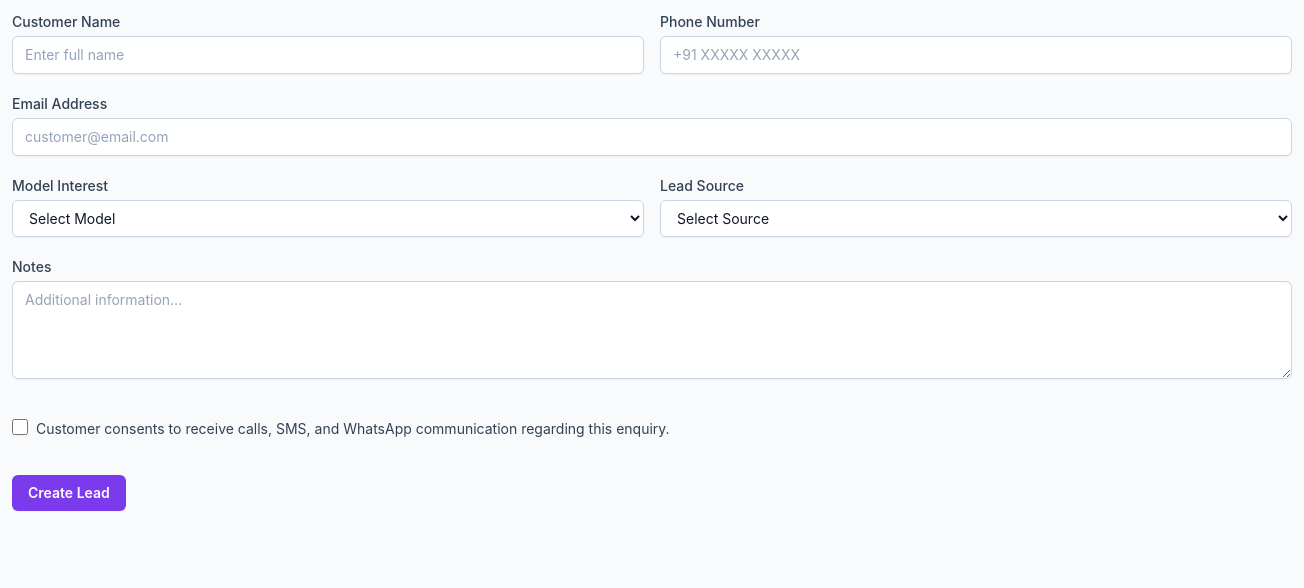
NewLeadForm (simplified) › config-driven mandatory fields (issue #27) › does not show a required error for a field configured optional, and submits without it
This screenshot has width=1304, height=588.
Type "Asha Rao" into the field labelled "Customer Name" at x=328, y=55, box [12,36,644,74]
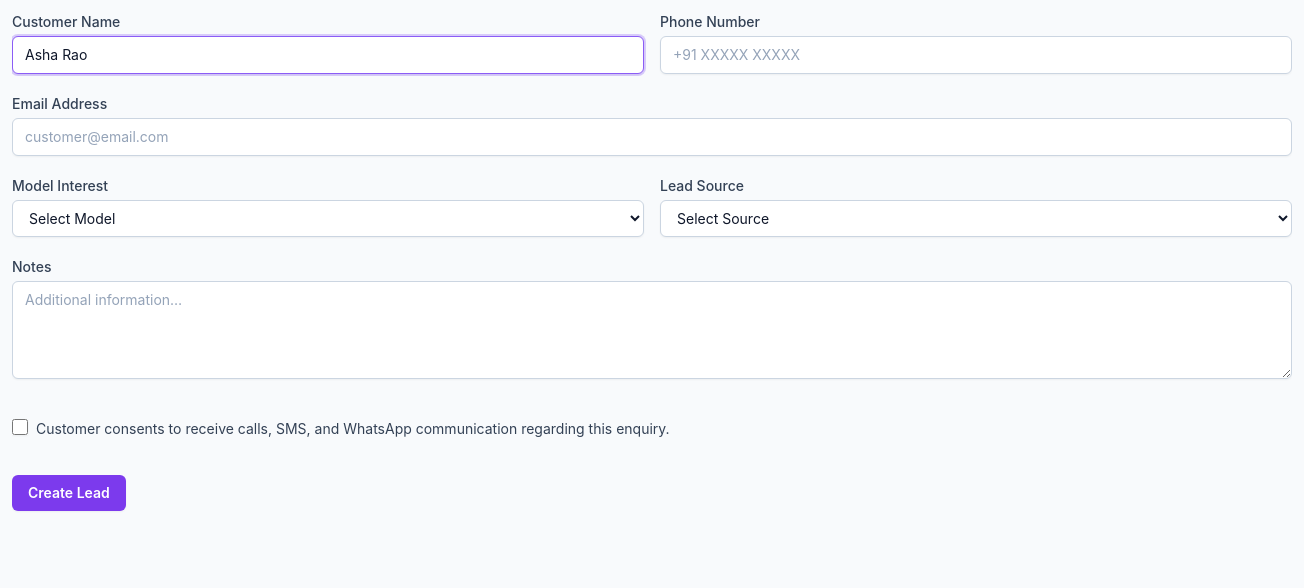
Type "9876543210" into the field labelled "Phone Number" at x=976, y=55, box [660,36,1292,74]
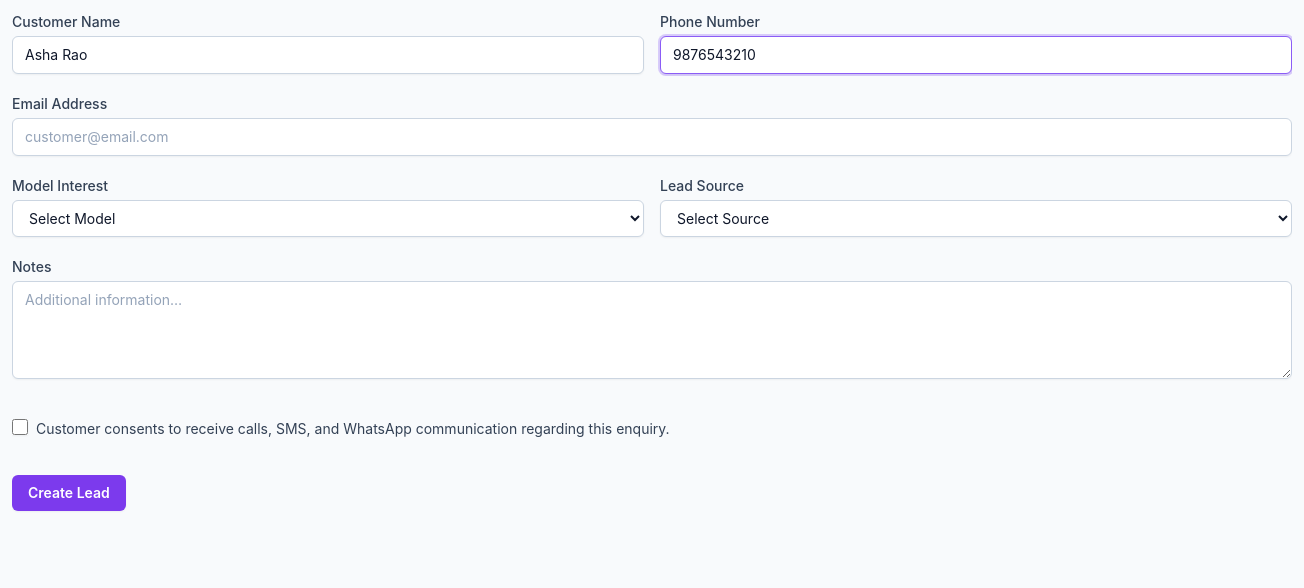
Select "Compact Hatchback LX" in the dropdown labelled "Model Interest" at x=328, y=218, box [12,200,644,237]
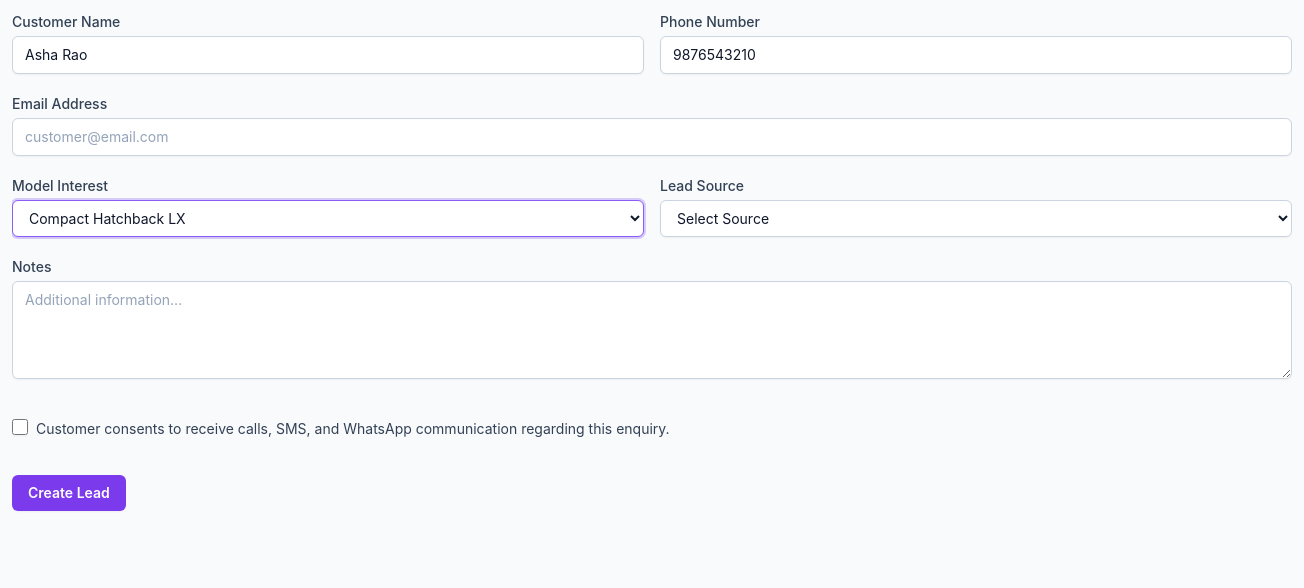
Click the checkbox labelled "Customer consents" at x=20, y=427, box [12,419,28,435]
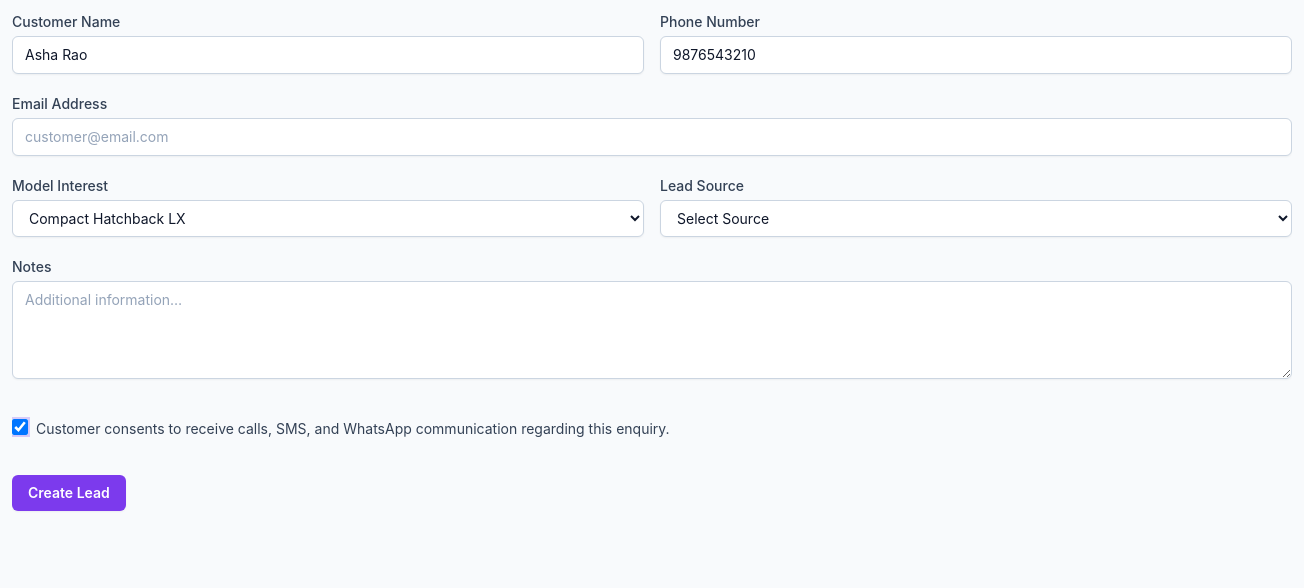
Click the button "Create Lead" at x=69, y=493, box [12,475,126,511]
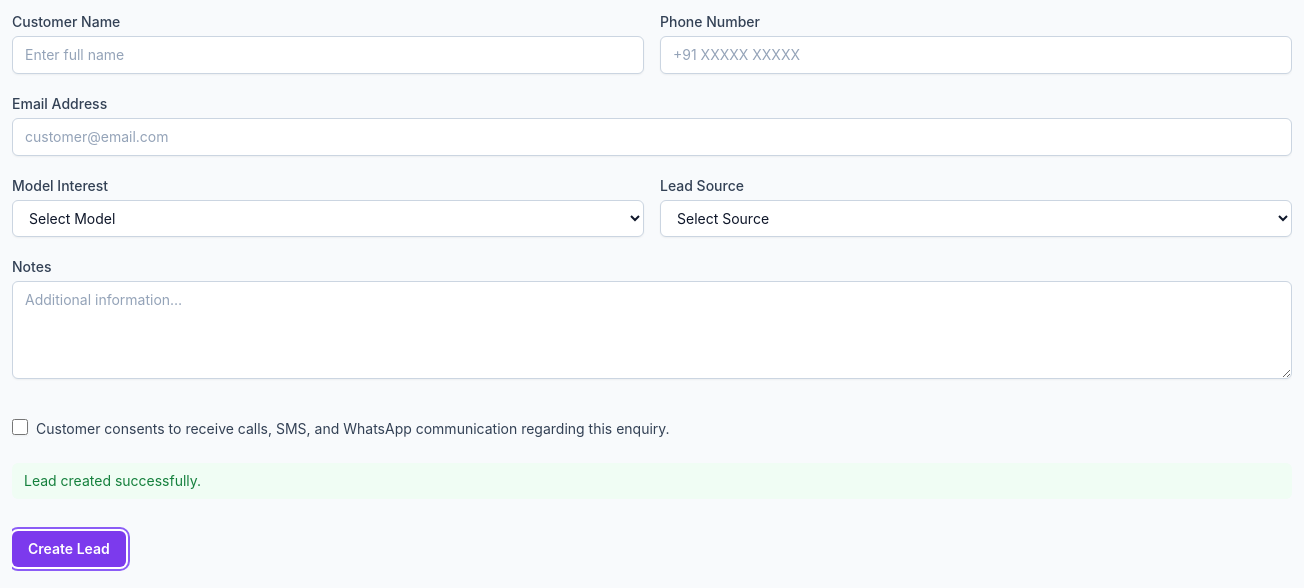
Expected: the text "Lead created successfully." is shown, [12,463,1292,499]
